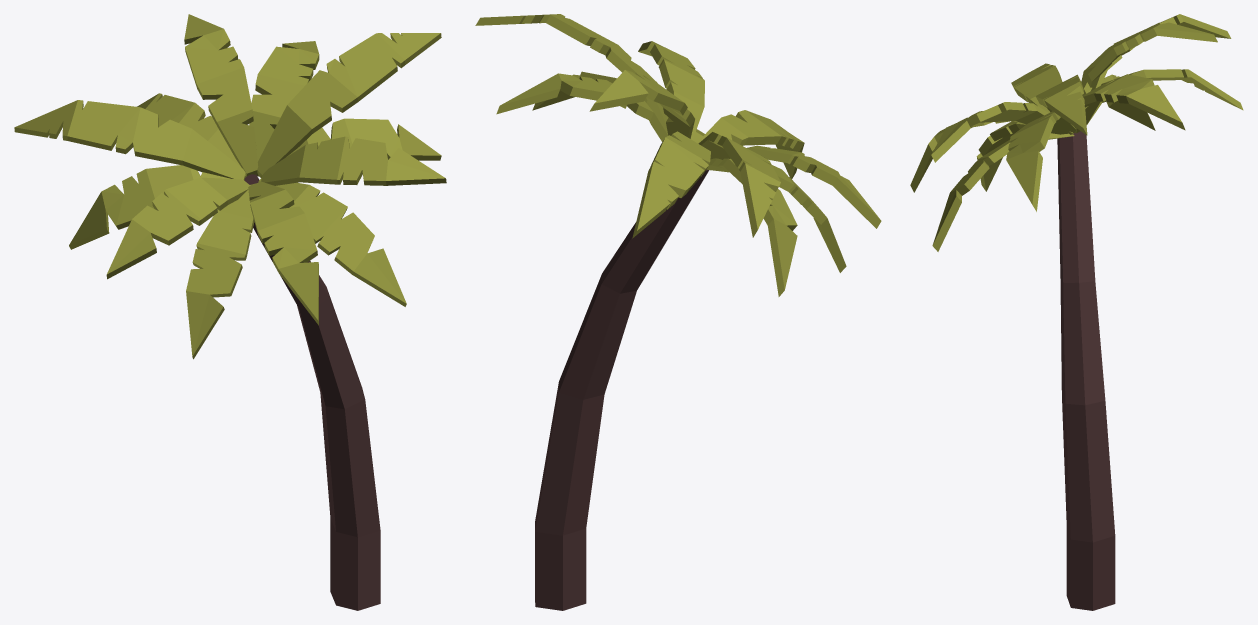
Rendered from palm_tree_3.glb.
3 views of the same model, side by side, from view 1: azimuth 30°, elevation 25°; view 2: azimuth 150°, elevation 25°; view 3: azimuth 270°, elevation 25° (orthographic). The views are drawn at different scales.
Visible parts, largest first — view 1: treetype3_3.350; view 2: treetype3_3.350; view 3: treetype3_3.350.
Boxes of the visible parts, <box> form: treetype3_3.350: <box>14,14,446,610</box>; treetype3_3.350: <box>475,14,881,610</box>; treetype3_3.350: <box>910,14,1243,610</box>.
Bounding box in the file's own units: 5.31 × 7.9 × 4.51.
Materials: 1 (1 with a texture image).
